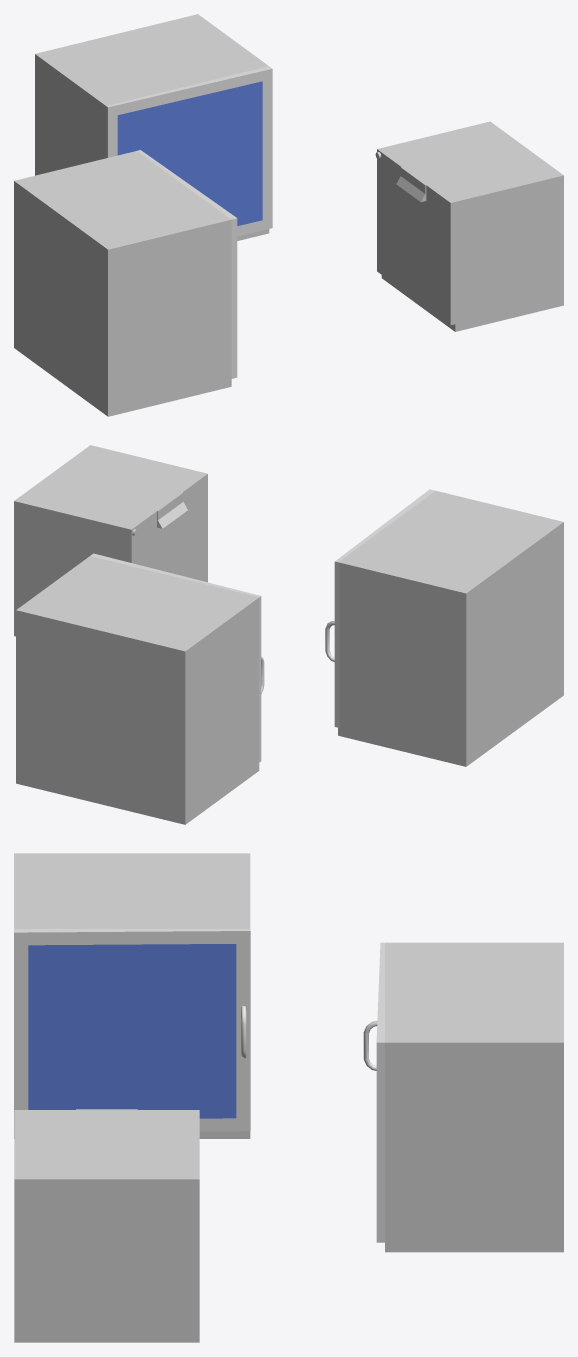
Rendered from Bar Fridges.fbx.
3 renders of one model, top to bottom at view 1: azimuth 30°, elevation 25°; view 2: azimuth 150°, elevation 25°; view 3: azimuth 270°, elevation 25°, orthographic. The views are drawn at different scales.
Parts seen in each view (by area): view 1: Plane.009, Plane.004, Plane.006, Plane.007, Plane.005, Plane.010; view 2: Plane.006, Plane.009, Plane.004, Plane.005, Plane.010, Plane.007; view 3: Plane.006, Plane.010, Plane.004, Plane.009, Plane.007, Plane.005.
Boxes of the visible parts, x1,y1,x2,y2 form: Plane.009: [14, 150, 231, 416]; Plane.004: [381, 121, 563, 331]; Plane.006: [35, 14, 269, 240]; Plane.007: [106, 66, 272, 236]; Plane.005: [375, 148, 455, 325]; Plane.010: [135, 150, 237, 378]; Plane.006: [16, 556, 259, 824]; Plane.009: [338, 491, 563, 766]; Plane.004: [14, 445, 202, 636]; Plane.005: [127, 472, 207, 582]; Plane.010: [325, 489, 435, 727]; Plane.007: [90, 553, 264, 762]; Plane.006: [385, 942, 563, 1252]; Plane.010: [14, 928, 250, 1132]; Plane.004: [14, 1112, 199, 1342]; Plane.009: [14, 853, 250, 1138]; Plane.007: [363, 942, 386, 1242]; Plane.005: [14, 1109, 199, 1112].
Bounding box in the file's own units: 201 × 167 × 70.49.
